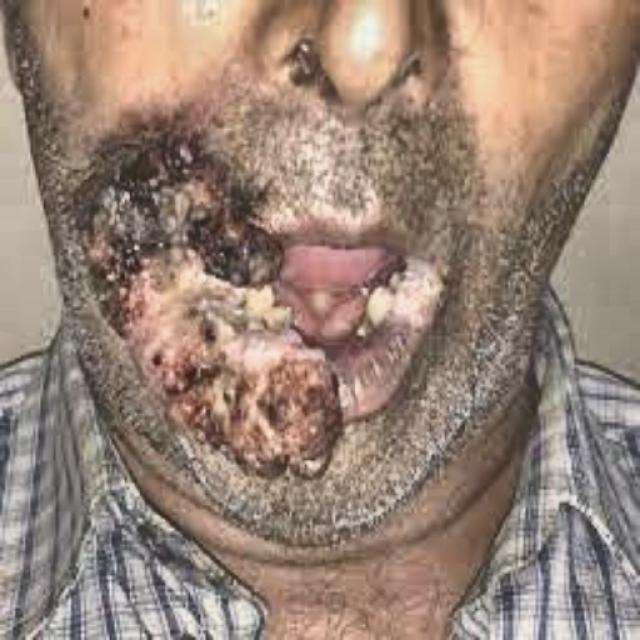cancer-detection: (76, 169, 343, 482)
processing_area: (70, 122, 433, 485)
